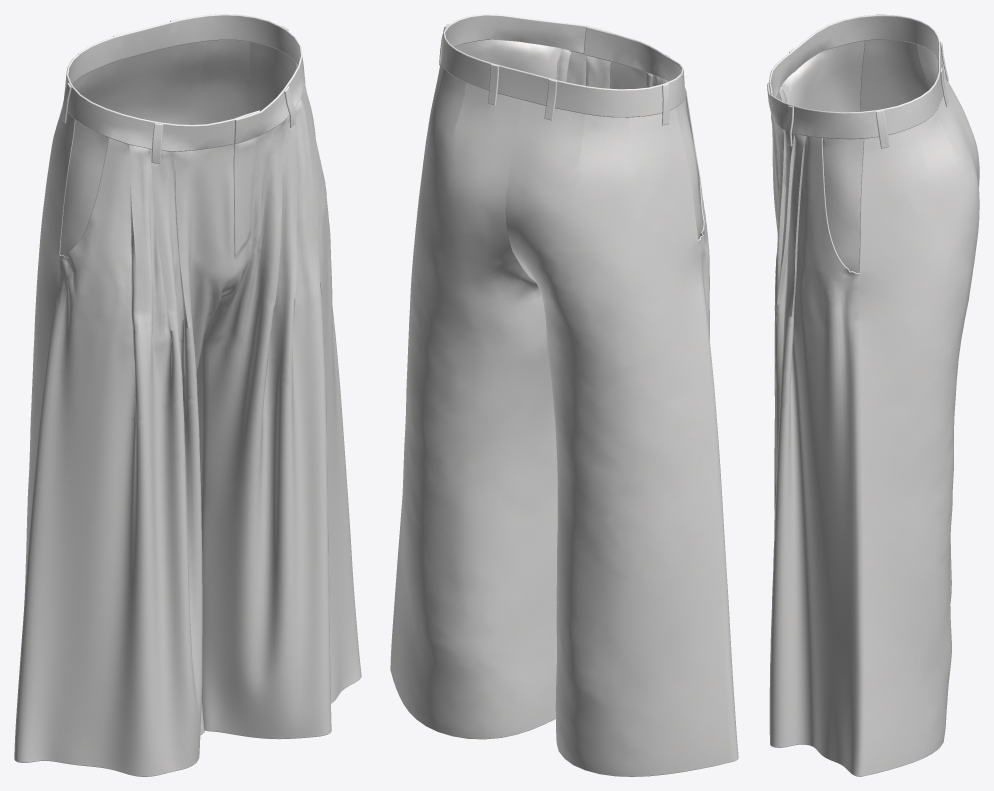
File: Look 7_3.gltf
The picture shows the model from 3 angles, left to right: view 1: azimuth 30°, elevation 25°; view 2: azimuth 150°, elevation 25°; view 3: azimuth 270°, elevation 25°; orthographic projection. The views are drawn at different scales.
Visible parts, largest first — view 1: Cloth; view 2: Cloth; view 3: Cloth.
Part boxes in pixels (box(x1,y1,x2,y2)): Cloth: box(14, 14, 361, 776); Cloth: box(390, 14, 738, 776); Cloth: box(767, 14, 979, 776).
Bounding box in the file's own units: 0.4969 × 0.9294 × 0.2751.
Materials: 2 (2 with a texture image).
